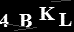4: (1, 12, 10, 28)
B: (17, 13, 33, 28)
K: (37, 6, 57, 21)
L: (57, 12, 73, 27)
